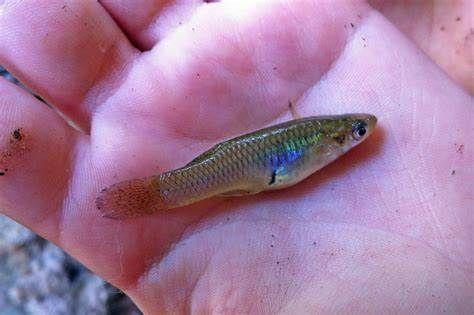Mosquito Fish: (99, 106, 381, 233)
